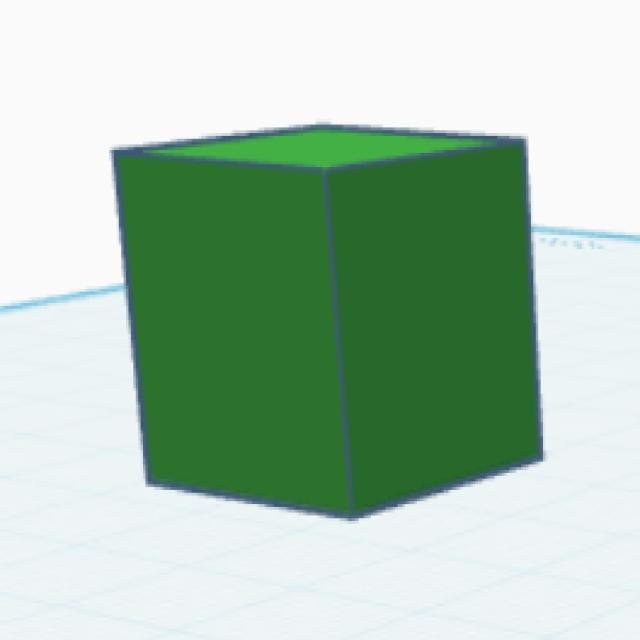cube: (106, 119, 547, 525)
